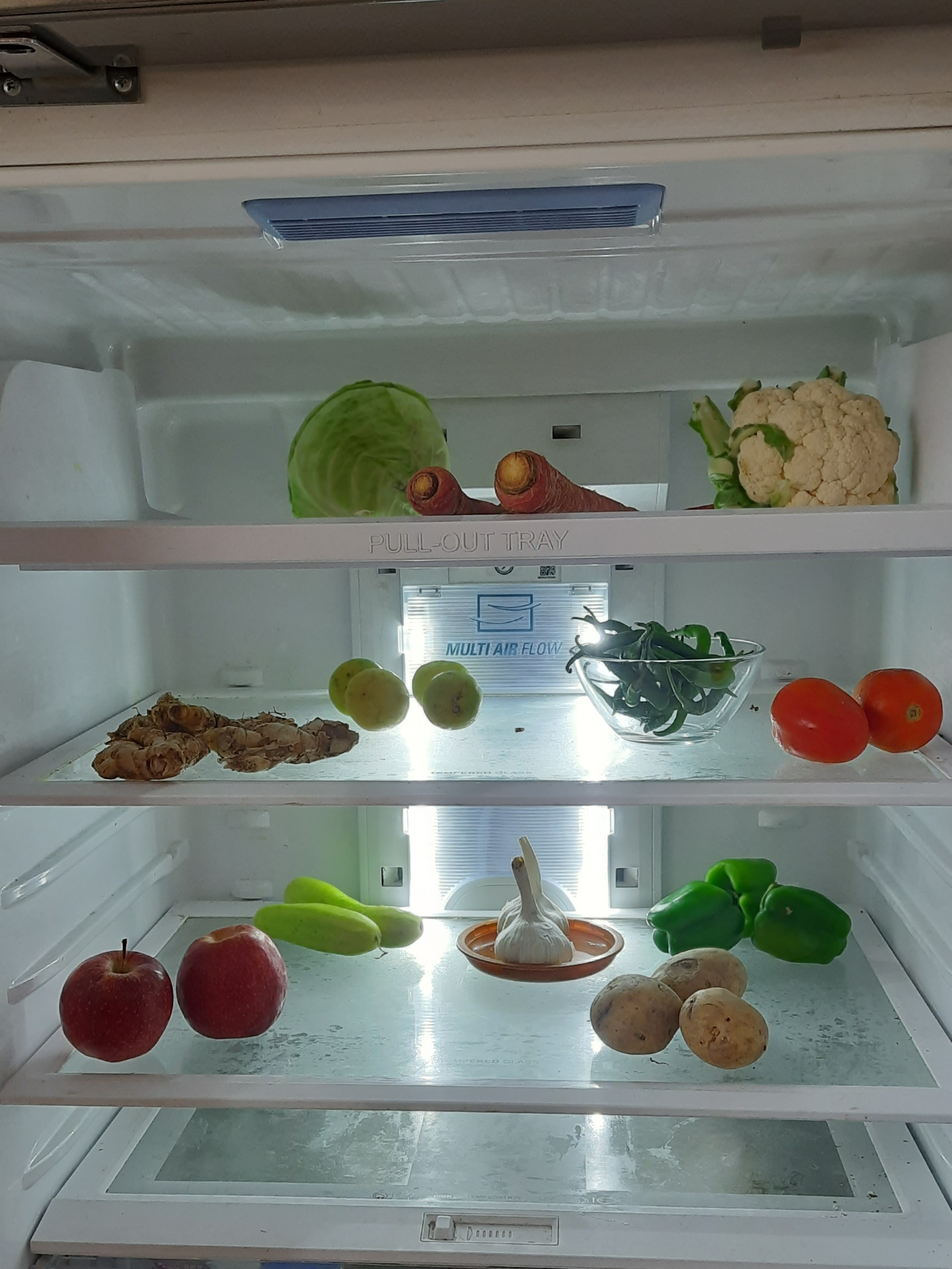apple: (54, 933, 172, 1062), (177, 919, 292, 1042)
cabbage: (283, 378, 458, 513)
capsicum: (646, 852, 859, 965)
carrots: (405, 456, 658, 526)
cauliflower: (695, 363, 904, 505)
chillies: (571, 614, 749, 740)
cucumber: (253, 872, 430, 952)
garlic: (486, 831, 582, 967)
ginger: (96, 692, 329, 770)
lemon: (325, 652, 411, 729), (415, 653, 486, 731)
potato: (591, 943, 768, 1066)
tomato: (773, 661, 945, 759)
